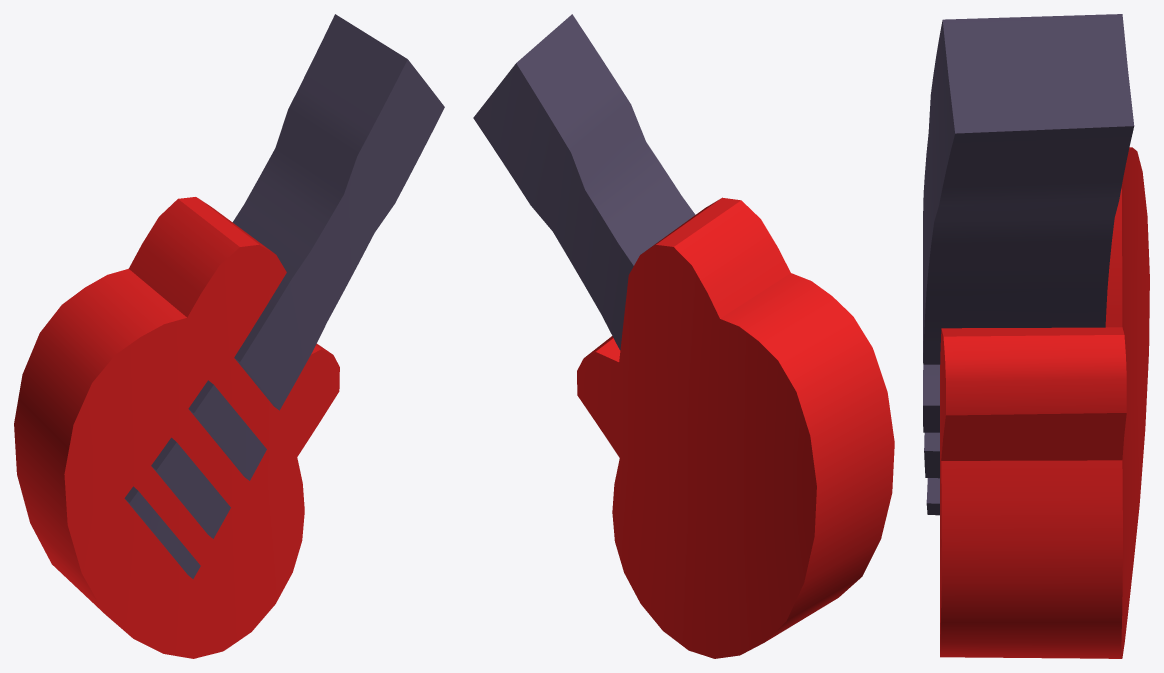
File: Guitar_Inner.fbx
The picture shows the model from 3 angles, left to right: view 1: azimuth 30°, elevation 25°; view 2: azimuth 150°, elevation 25°; view 3: azimuth 270°, elevation 25°; orthographic projection. The views are drawn at different scales.
Visible parts, largest first — view 1: Guitar_Inner; view 2: Guitar_Inner; view 3: Guitar_Inner.
Boxes of the visible parts, x1,y1,x2,y2 form: Guitar_Inner: [14, 14, 444, 658]; Guitar_Inner: [473, 14, 894, 658]; Guitar_Inner: [923, 14, 1149, 658].
Size of the model in its own units: 24.65 by 34.42 by 9.26.
